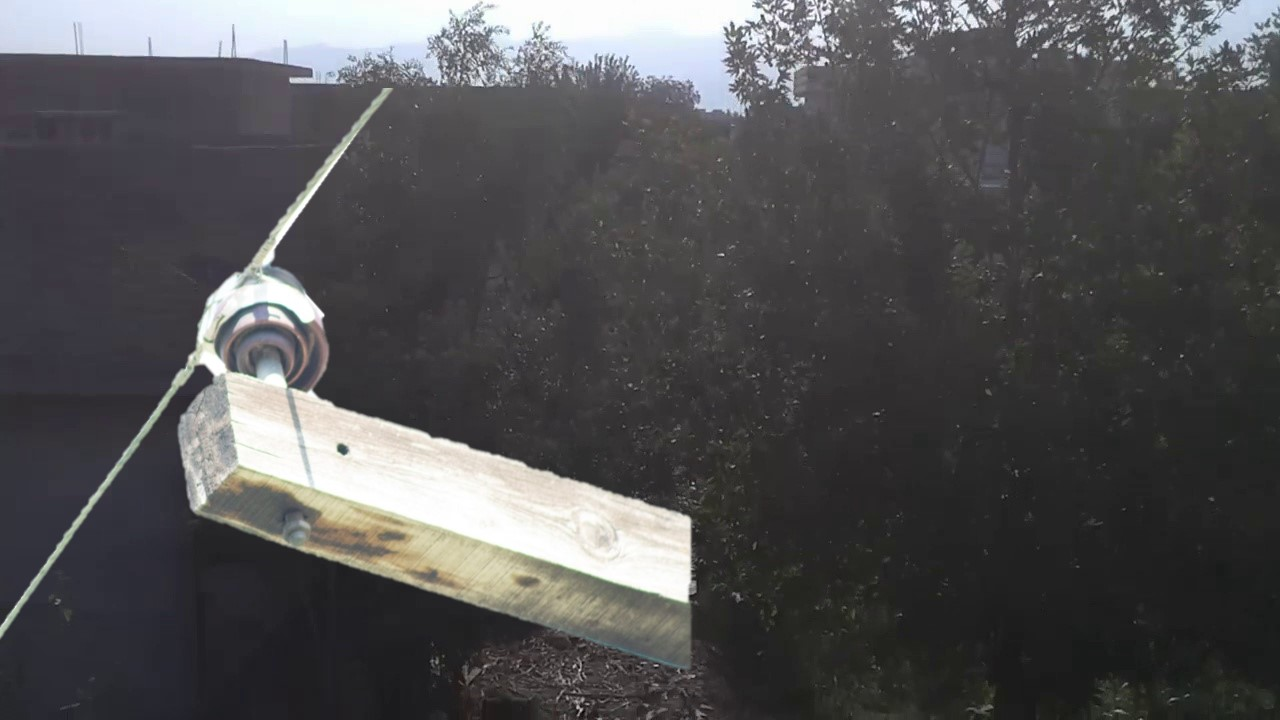defect_pin: (187, 255, 335, 391)
